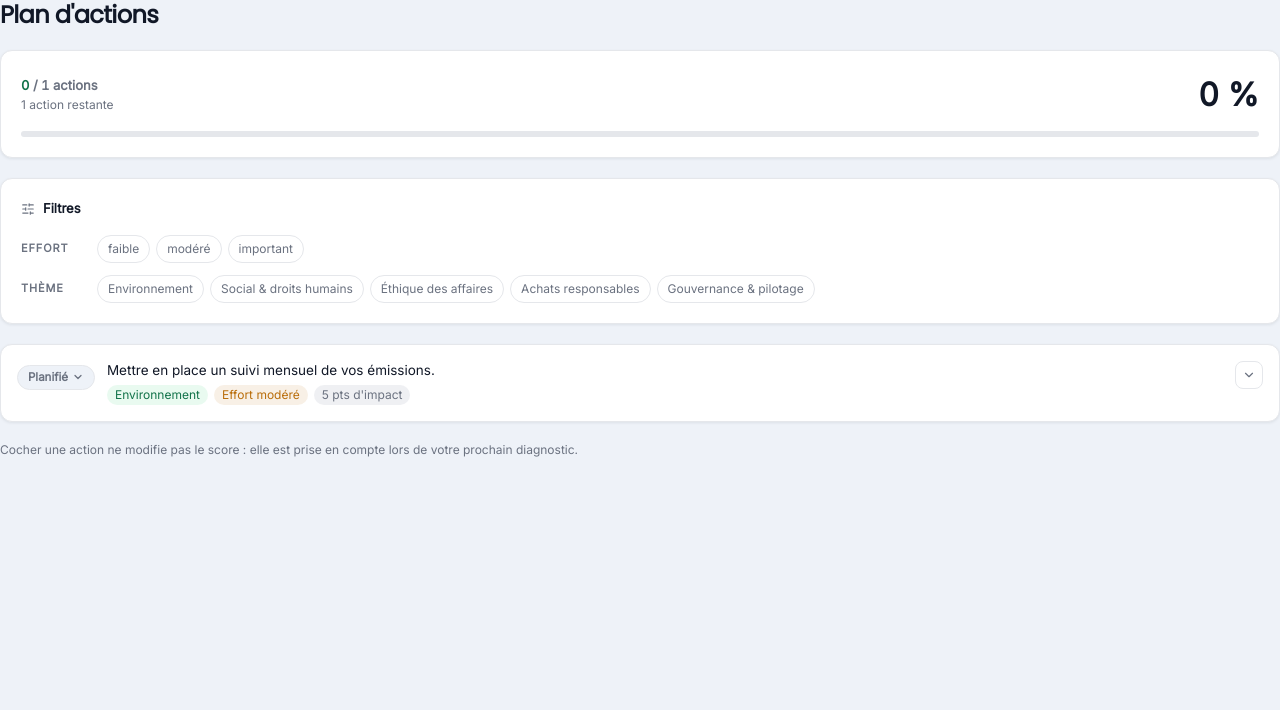
Test: PlanActionsPage › Annuler revient aux valeurs enregistrées, sans rien envoyer
Step 1. Click the button named "Modifier les détails" → (1249, 374), box x1=1235 y1=360 x2=1263 y2=388
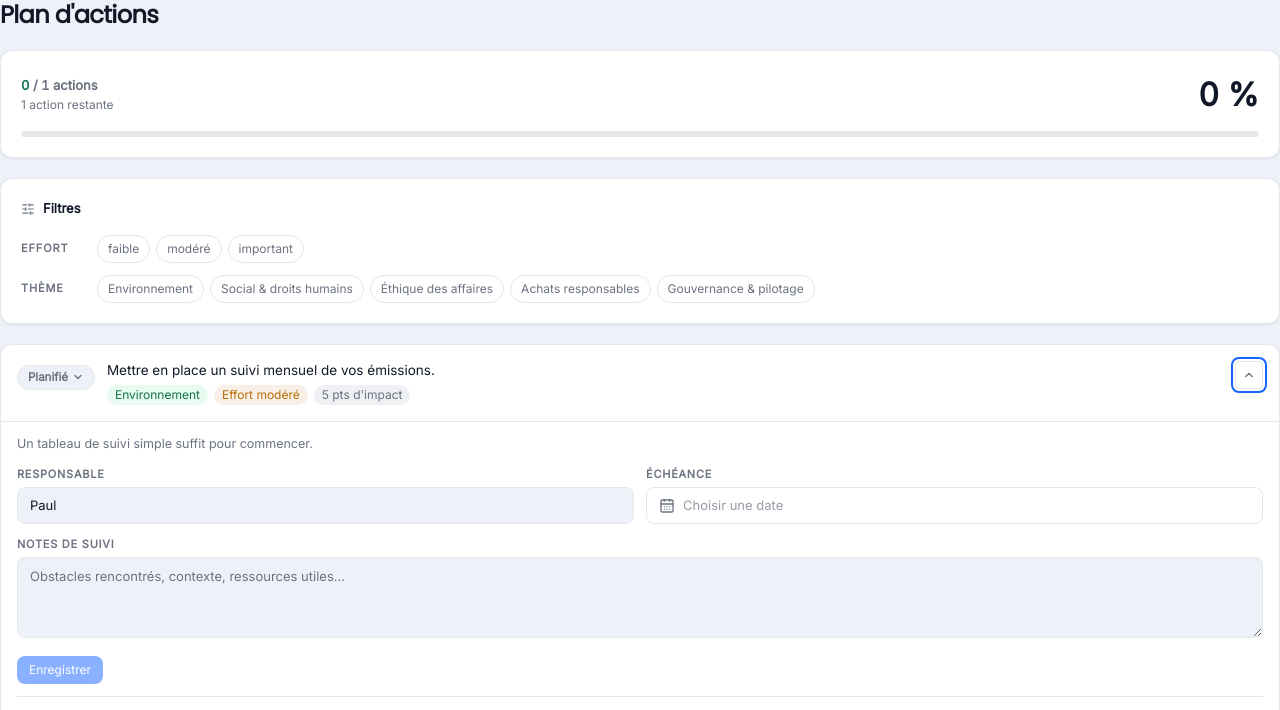
Step 2. Replace the text in the field labelled "Responsable" with "Claire" → (326, 506), box x1=17 y1=487 x2=634 y2=524
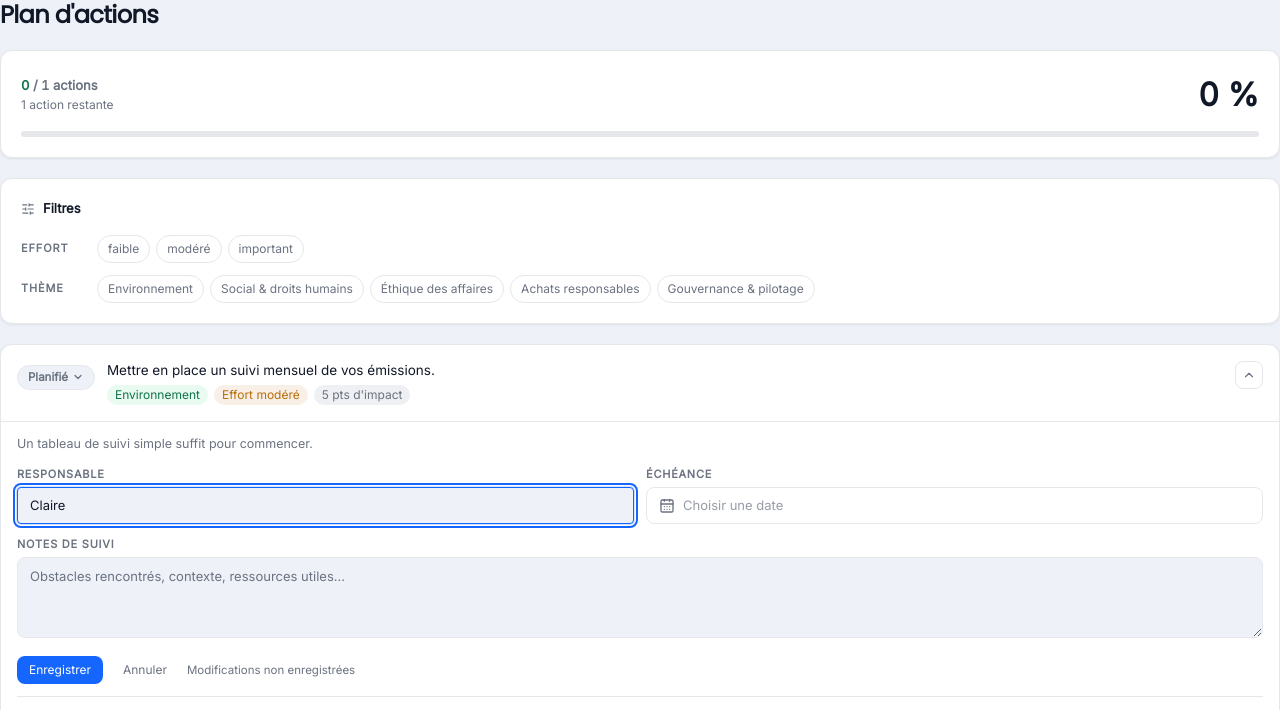
Step 3. Click the button "Annuler" → (145, 670), box x1=111 y1=656 x2=179 y2=684
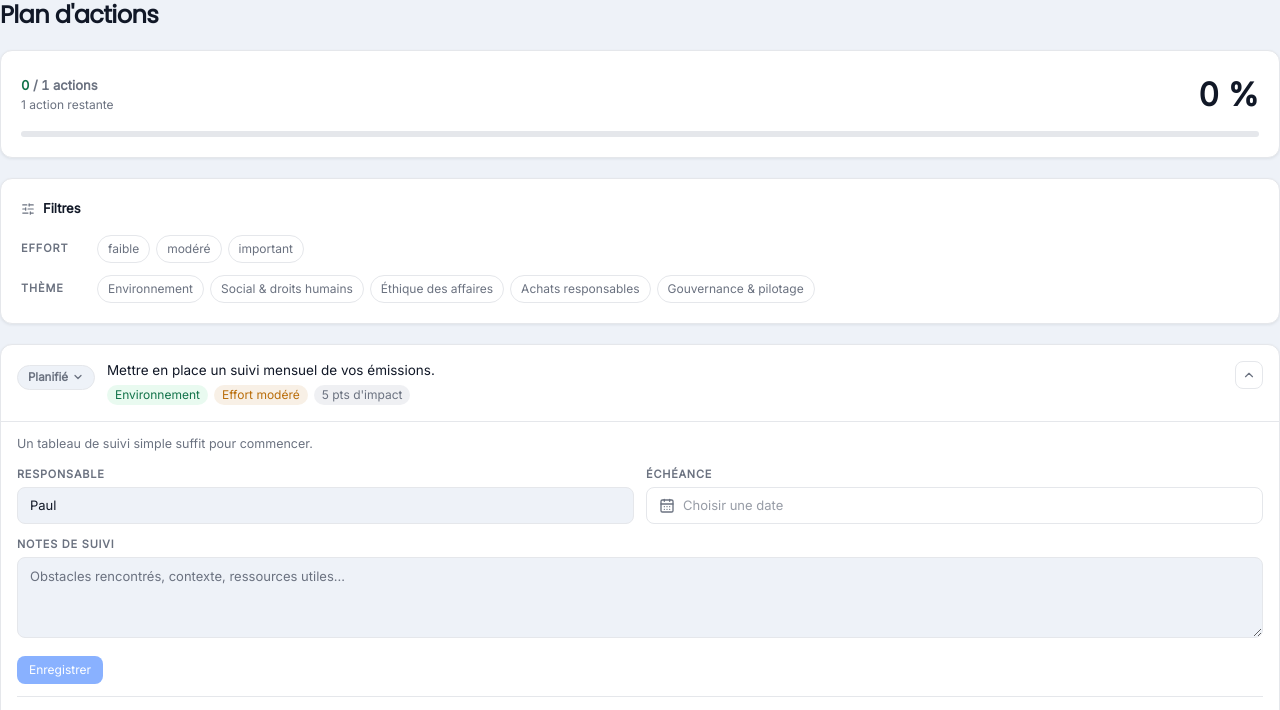
Expected: the field labelled "Responsable" holds "Paul", x1=17 y1=487 x2=634 y2=524
Expected: the button "Annuler" is gone
